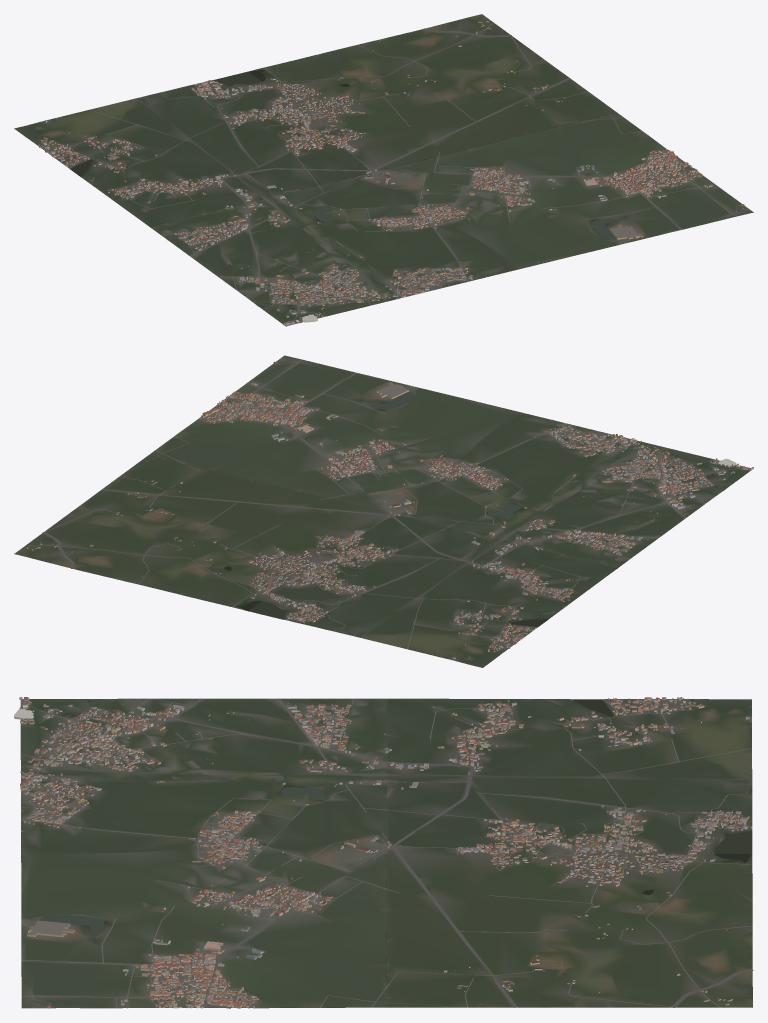
3 views of the same model, one above another, from view 1: azimuth 30°, elevation 25°; view 2: azimuth 150°, elevation 25°; view 3: azimuth 270°, elevation 25° (orthographic). The views are drawn at different scales.
Parts seen in each view (by area): view 1: ground, buildings, roads, water; view 2: ground, buildings, roads, water; view 3: ground, buildings, roads, water.
Boxes of the visible parts, box(x1,y1,x2,y2) form: ground: box(14, 14, 753, 325); buildings: box(38, 20, 744, 326); roads: box(34, 23, 744, 325); water: box(70, 70, 627, 308); ground: box(14, 355, 750, 667); buildings: box(26, 360, 753, 659); roads: box(27, 359, 738, 661); water: box(224, 392, 725, 626); ground: box(20, 698, 752, 1008); buildings: box(14, 697, 752, 1008); roads: box(21, 698, 753, 1008); water: box(39, 699, 751, 942).
Size of the model in its own units: 2811 by 24.24 by 2837.
